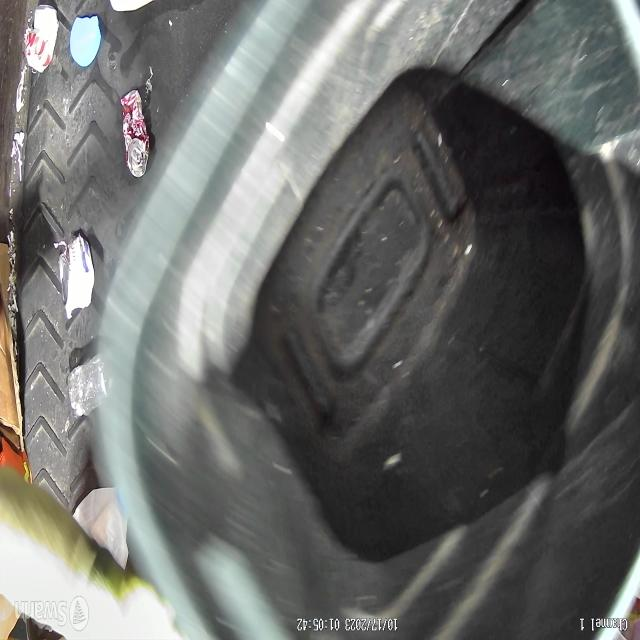can: (119, 89, 150, 178), (21, 4, 58, 76), (60, 236, 94, 312)
plastic_bottle: (69, 355, 103, 420)
